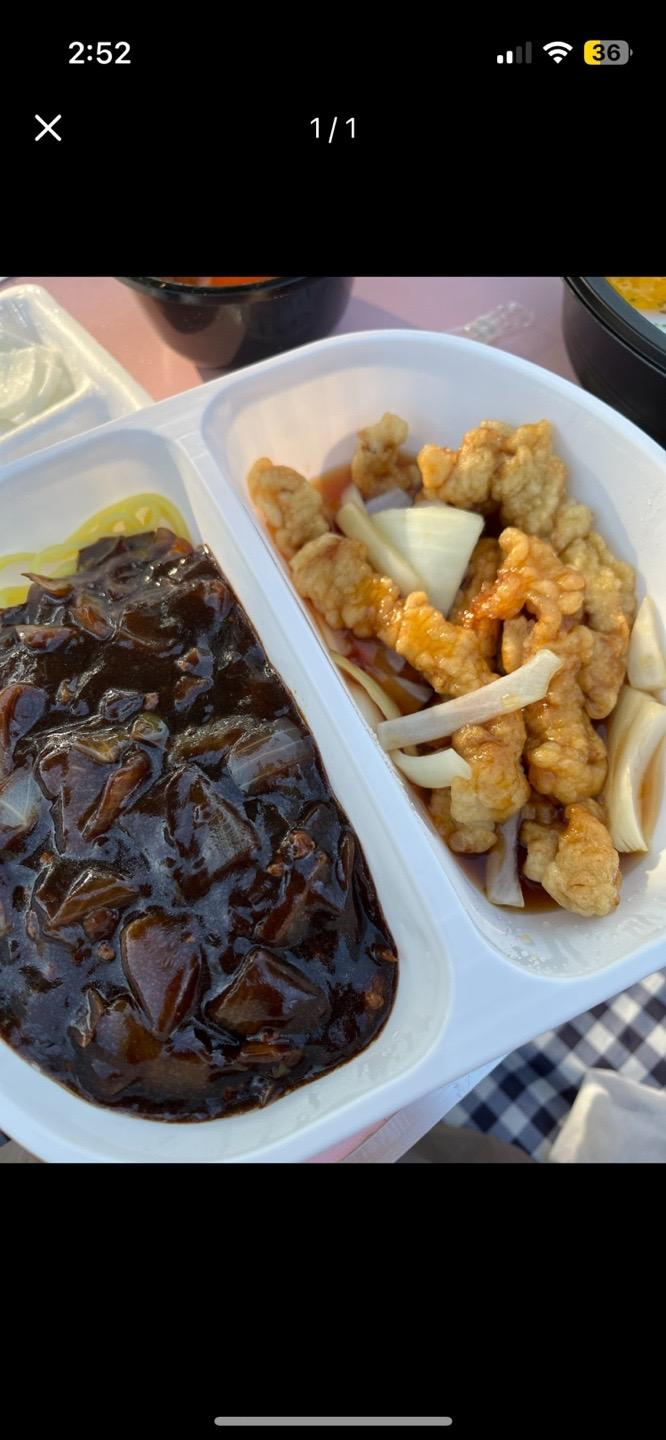Lunch Box: (0, 330, 665, 1162), (0, 285, 150, 464), (562, 277, 665, 445)
